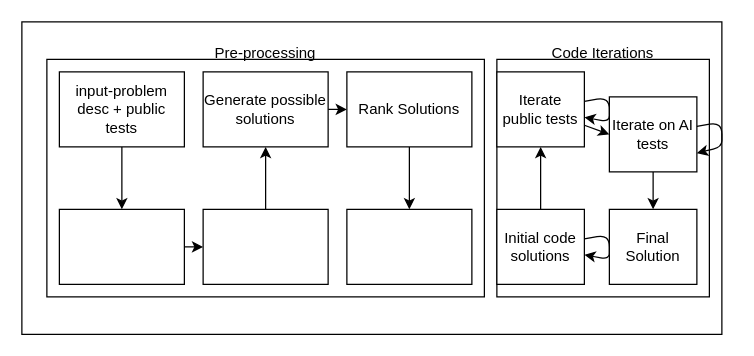
Some shapes in this 754 by 356 pixel diagram are drawn without their labels. The box of each missing label's shape, as (x1, y1, x2, y2) in pixels:
Generate Additional AI Tests: (346, 208, 472, 284)
problem reflection: (58, 208, 184, 284)
Public tests reasoning: (202, 208, 328, 284)
